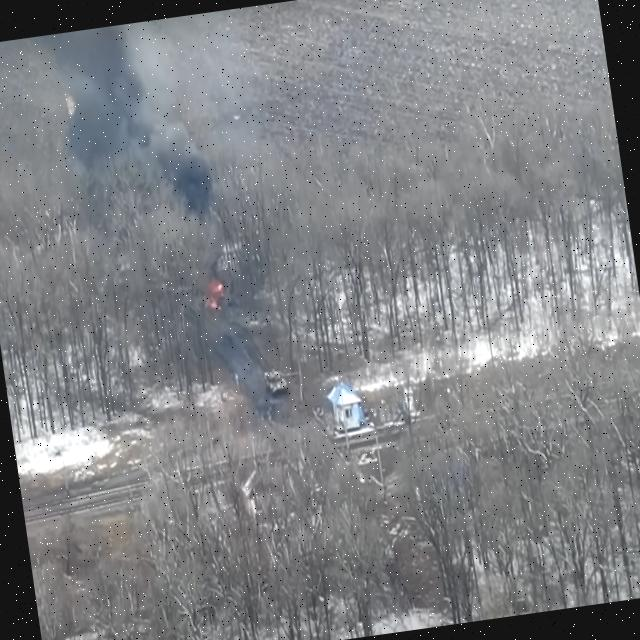MBT: (262, 361, 305, 401)
